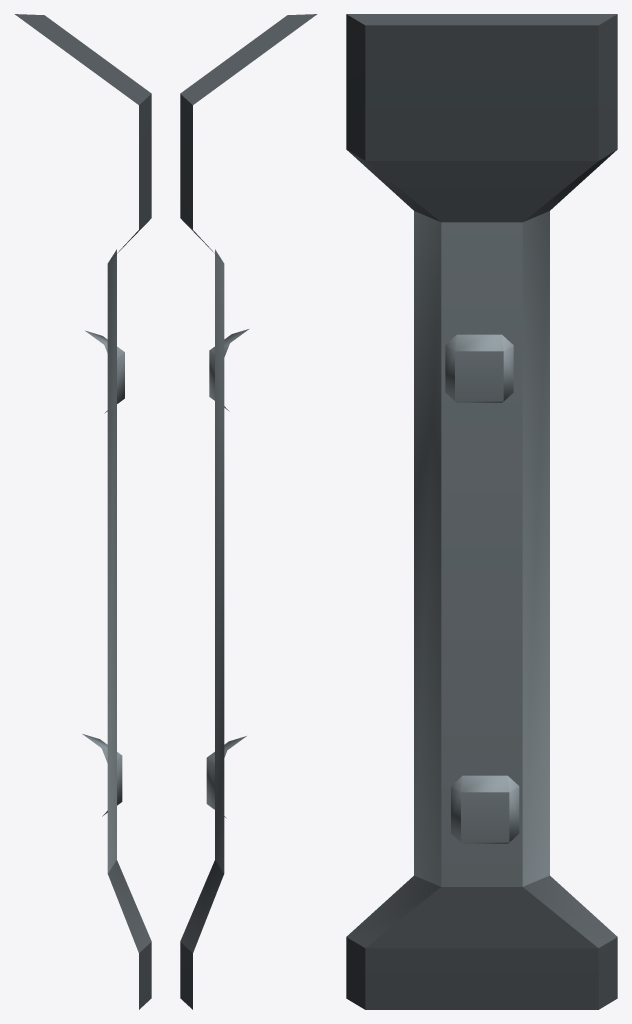
Rendered from wall_endcap_short.gltf.glb.
3 views of the same model, side by side, from view 1: azimuth 30°, elevation 25°; view 2: azimuth 150°, elevation 25°; view 3: azimuth 270°, elevation 25° (orthographic). The views are drawn at different scales.
Parts seen in each view (by area): view 1: wall_endcap; view 2: wall_endcap; view 3: wall_endcap.
Boxes of the visible parts, x1,y1,x2,y2 form: wall_endcap: (14,14,151,1009); wall_endcap: (180,14,317,1009); wall_endcap: (346,14,617,1009).
Bounding box in the file's own units: 0.1669 × 4 × 1.
Materials: 1 (1 with a texture image).
